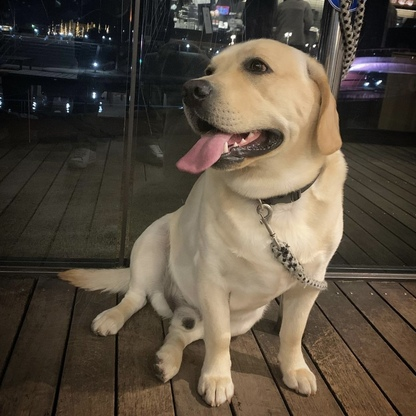labrado: (55, 33, 355, 408)
